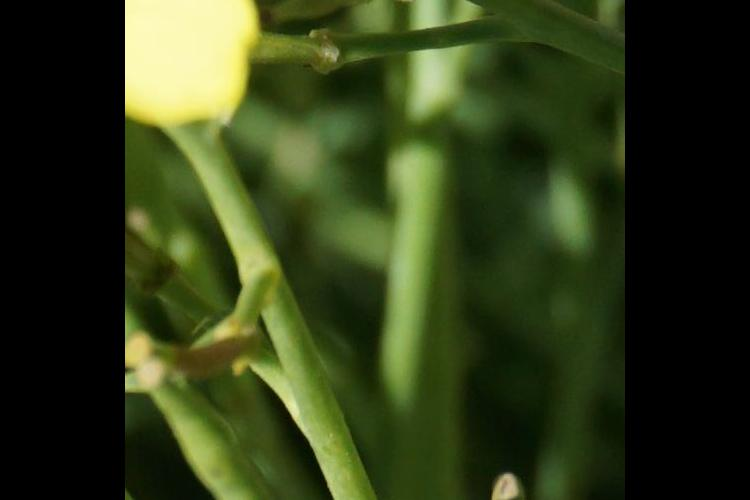pod: (470, 451, 571, 500)
